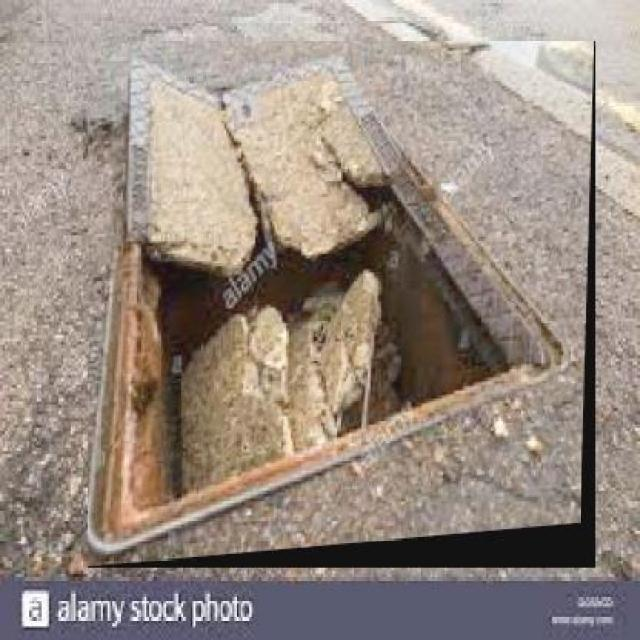Open Manhole: (98, 54, 585, 532)
